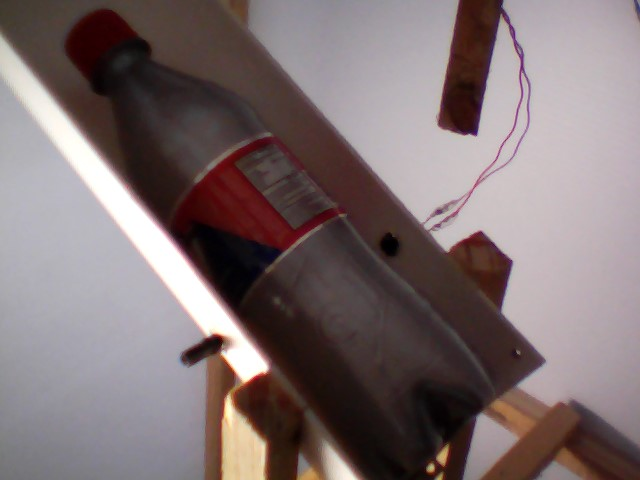plastico: (63, 4, 505, 477)
